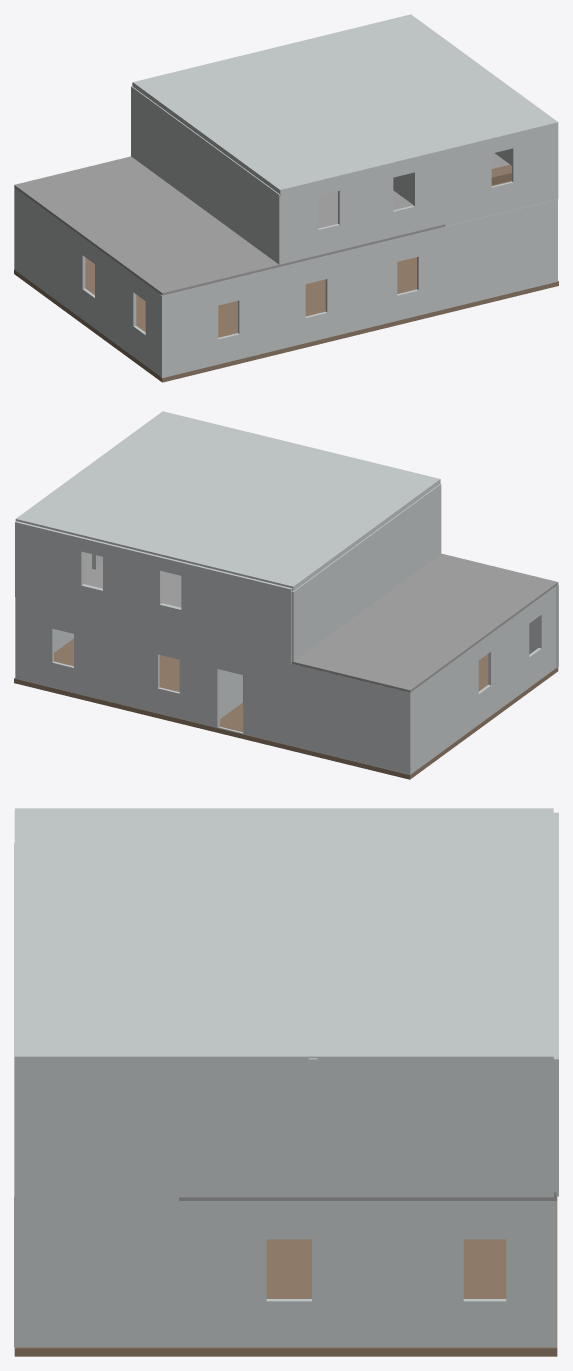
The model's file is Most_Current_House (1).fbx.
The picture shows the model from 3 angles, top to bottom: view 1: azimuth 30°, elevation 25°; view 2: azimuth 150°, elevation 25°; view 3: azimuth 270°, elevation 25°; orthographic projection. The views are drawn at different scales.
Parts seen in each view (by area): view 1: ceiling1, wall3, floor2, wall7, wall2, wall6, floor1, int_wall3; view 2: ceiling1, wall1, wall5, floor2, wall2, wall6, floor1, int_wall1, wall3; view 3: ceiling1, wall4, wall8, floor1, wall5, floor2, int_wall5.
Part boxes in pixels (<box>): ceiling1: <box>132,14,558,195</box>; wall3: <box>160,199,557,378</box>; floor2: <box>14,153,509,295</box>; wall7: <box>281,122,558,263</box>; wall2: <box>14,187,165,377</box>; wall6: <box>131,86,281,264</box>; floor1: <box>14,257,558,382</box>; int_wall3: <box>393,173,413,204</box>; ceiling1: <box>15,411,440,591</box>; wall1: <box>16,597,410,774</box>; wall5: <box>15,521,292,664</box>; floor2: <box>83,552,558,692</box>; wall2: <box>410,586,556,774</box>; wall6: <box>291,483,441,661</box>; floor1: <box>14,638,558,779</box>; int_wall1: <box>220,670,242,718</box>; wall3: <box>529,584,558,667</box>; ceiling1: <box>15,808,553,1067</box>; wall4: <box>15,1197,556,1347</box>; wall8: <box>15,1055,553,1197</box>; floor1: <box>14,1197,557,1356</box>; wall5: <box>553,812,558,1196</box>; floor2: <box>179,1192,556,1200</box>; int_wall5: <box>308,1058,317,1193</box>.
Size of the model in its own units: 15.03 by 5.92 by 9.76.
